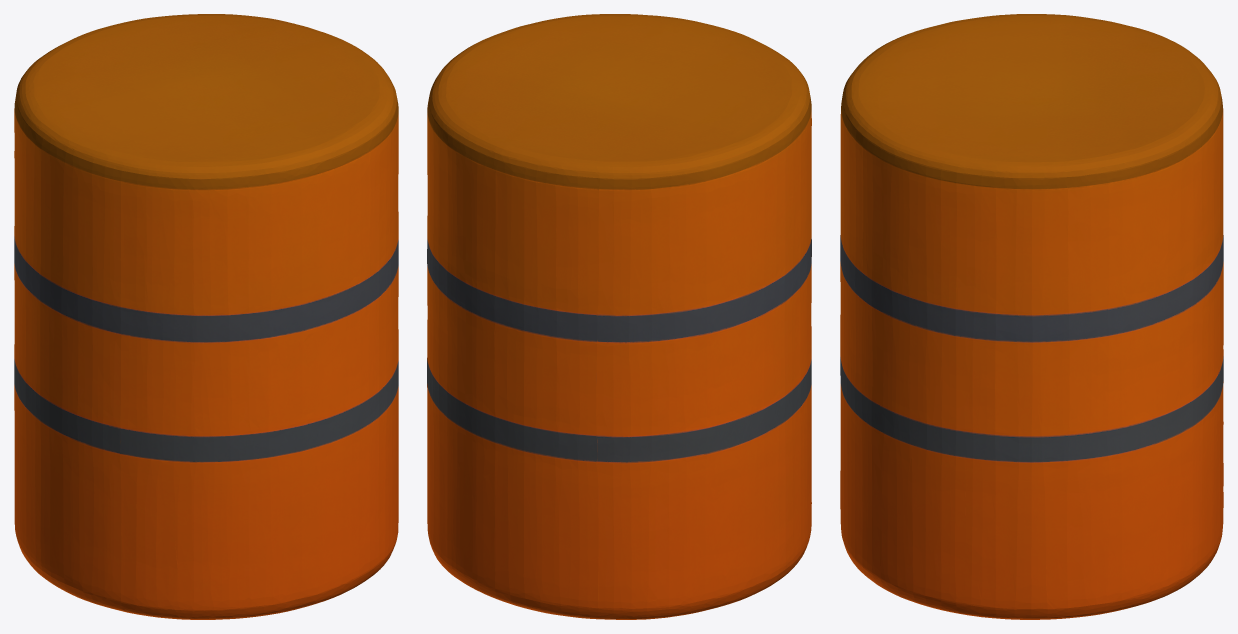
The model's file is barrel.glb.
The picture shows the model from 3 angles, left to right: view 1: azimuth 30°, elevation 25°; view 2: azimuth 150°, elevation 25°; view 3: azimuth 270°, elevation 25°; orthographic projection.
Visible parts, largest first — view 1: world; view 2: world; view 3: world.
Boxes of the visible parts, x1,y1,x2,y2 form: world: [14, 14, 398, 619]; world: [427, 14, 811, 619]; world: [840, 14, 1223, 619].
Size of the model in its own units: 0.7565 by 0.996 by 0.7558.
1 material, 1 textured.
